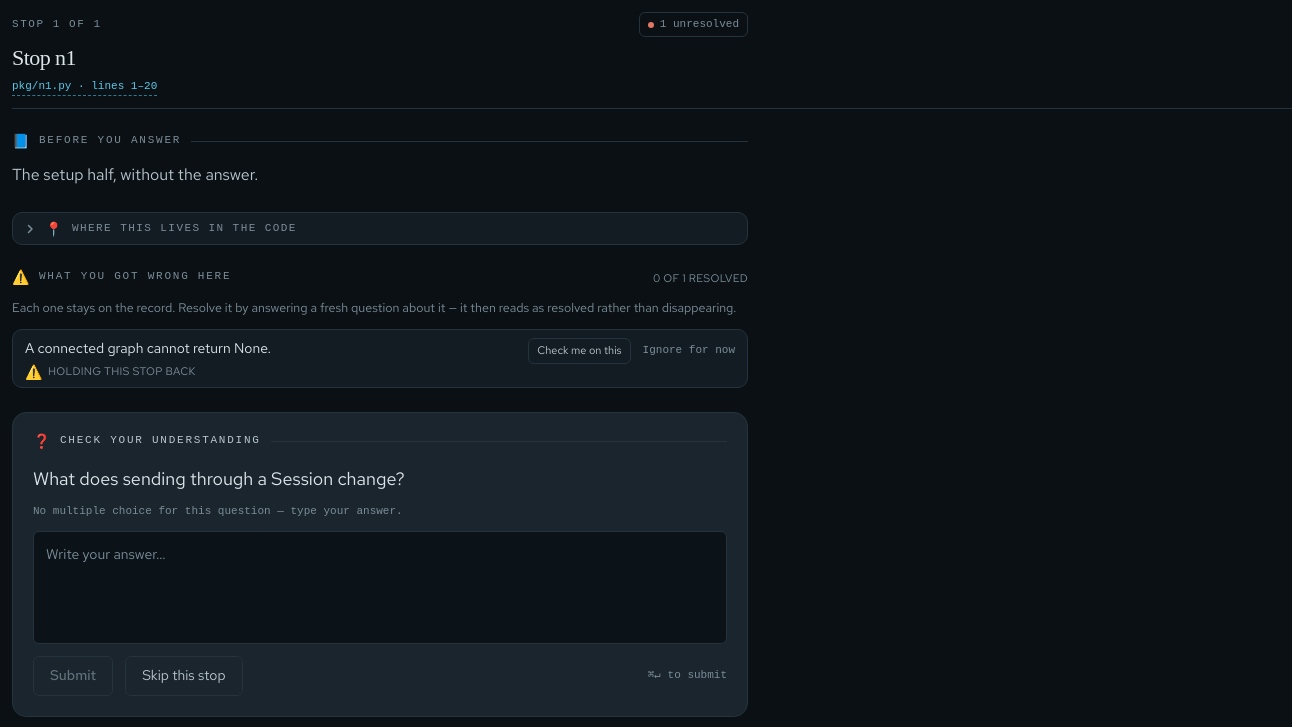
Test: requesting a verification › 'Not now' brings the lesson's own question back, still with one composer
Expected: the text "What does sending through a Session change?" is shown, [33,467,405,490]
Type "A wrong answer." into the text box with placeholder "Write your answer…" at (380, 588), box [33,531,727,644]
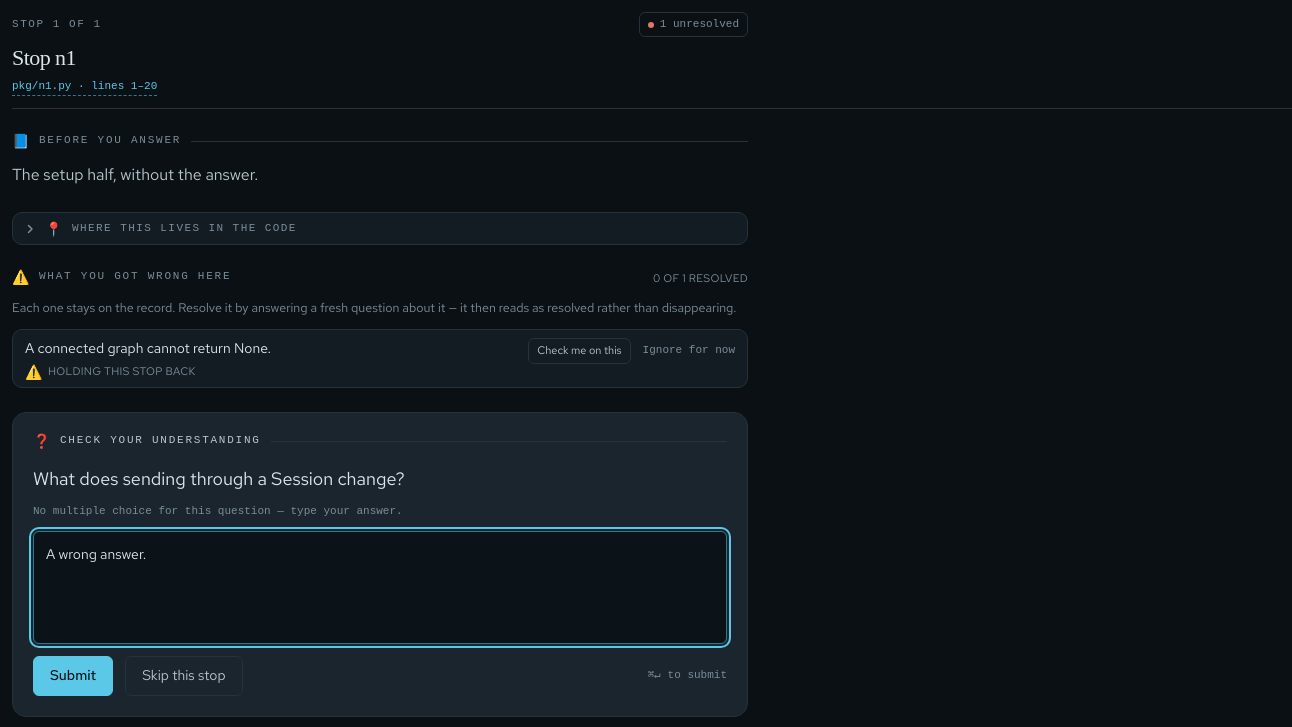
Click the button "Submit" at (73, 676), box [33,656,113,696]
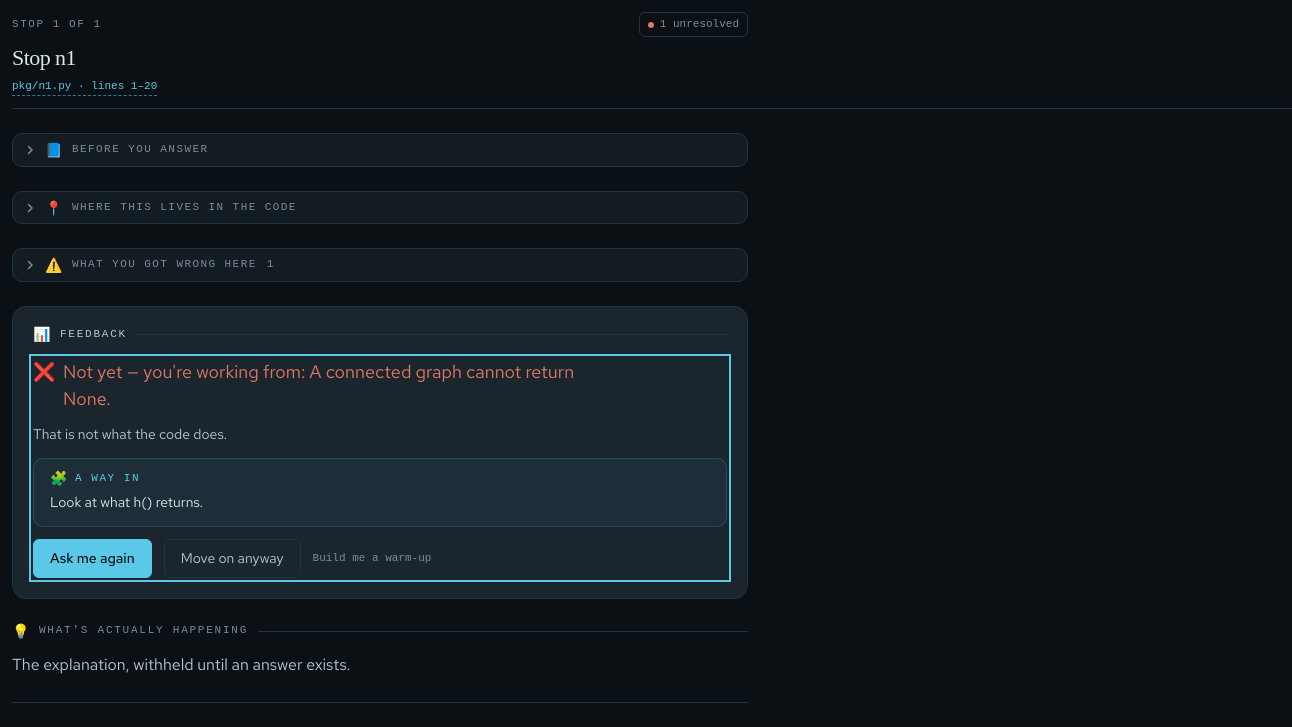
Expected: the button "Ask me again" is shown
Click the button "Ask me again" at (92, 559), box [33,539,152,578]
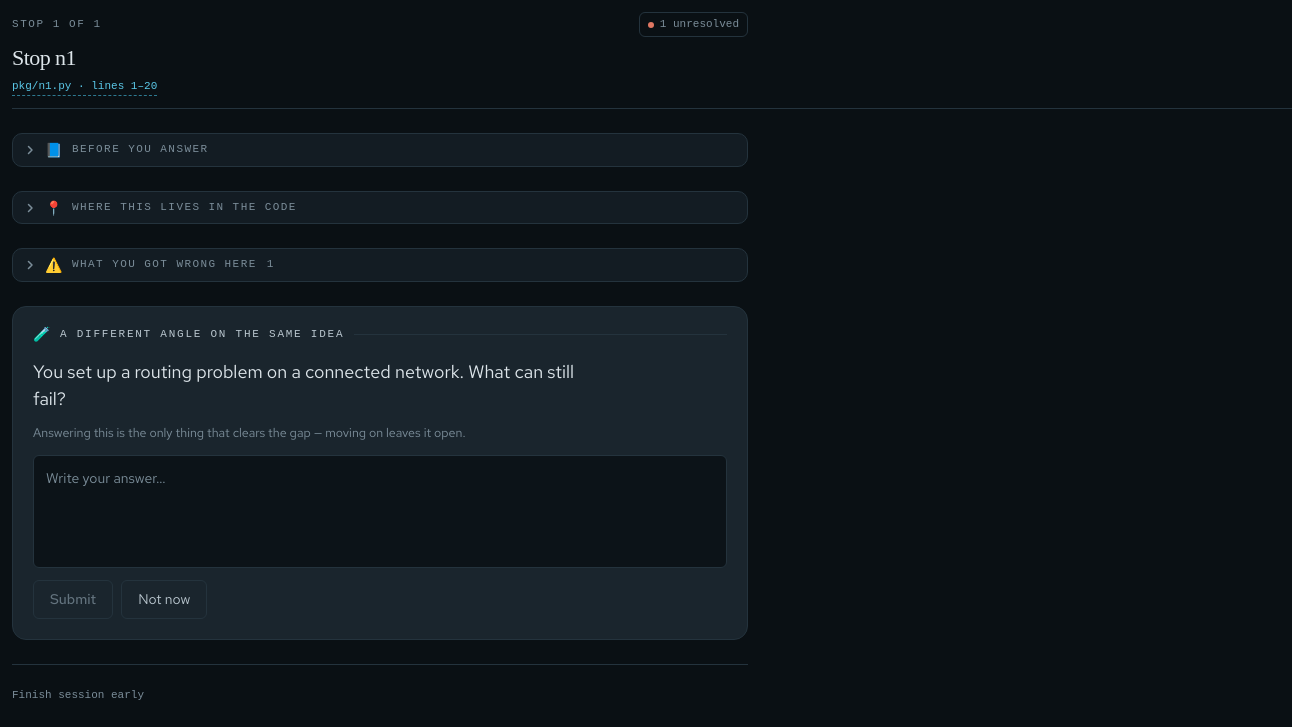
Expected: the text "You set up a routing problem on a connected network. What can still fail?" is shown, [33,358,580,412]
Click the button "Not now" at (164, 599), box [121,580,207,619]
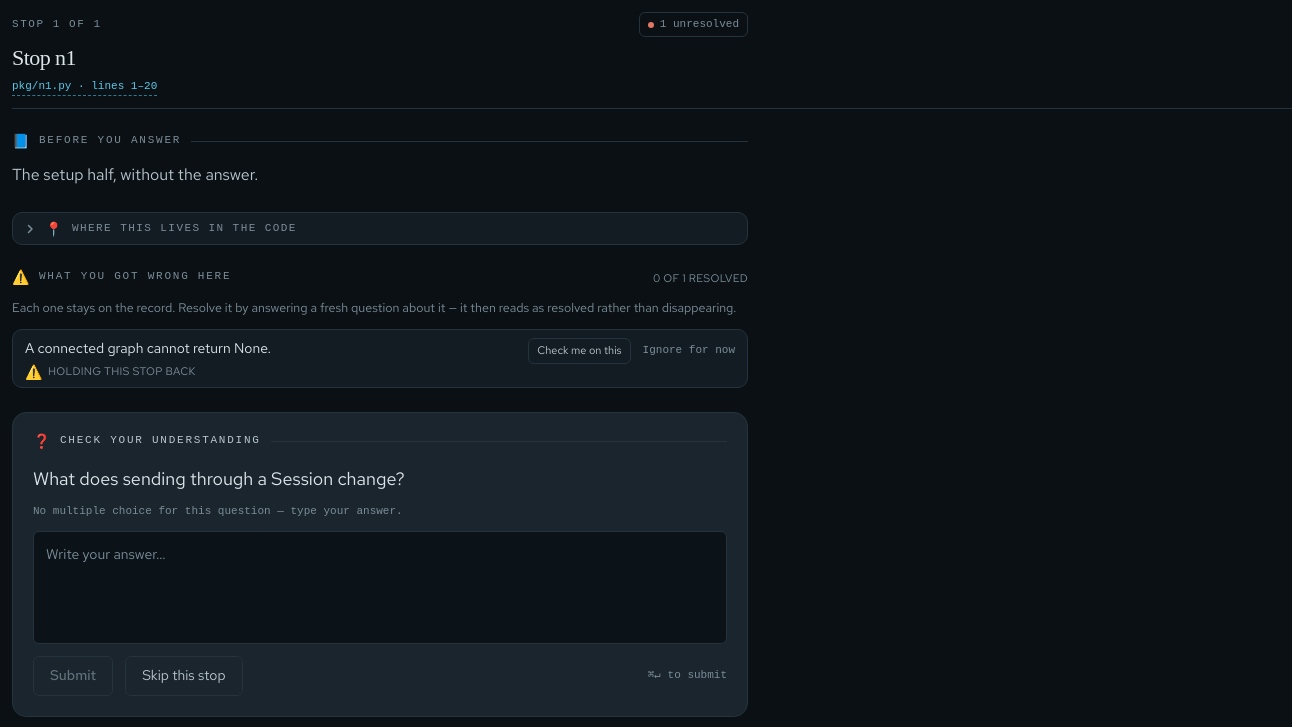
Expected: the number of text boxes with placeholder "Write your answer…" is 1, [33,531,727,644]
Expected: the text "What does sending through a Session change?" is shown, [33,467,405,490]
Expected: the text "You set up a routing problem on a connected network. What can still fail?" is gone
